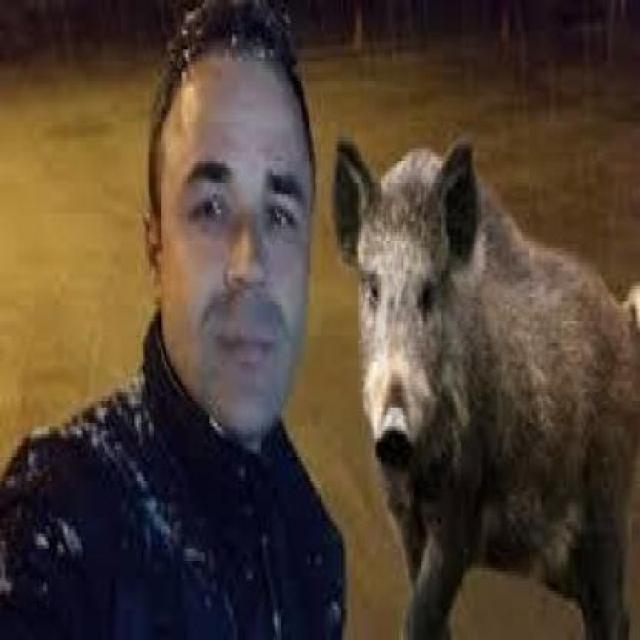wildboar: (332, 132, 638, 640)
